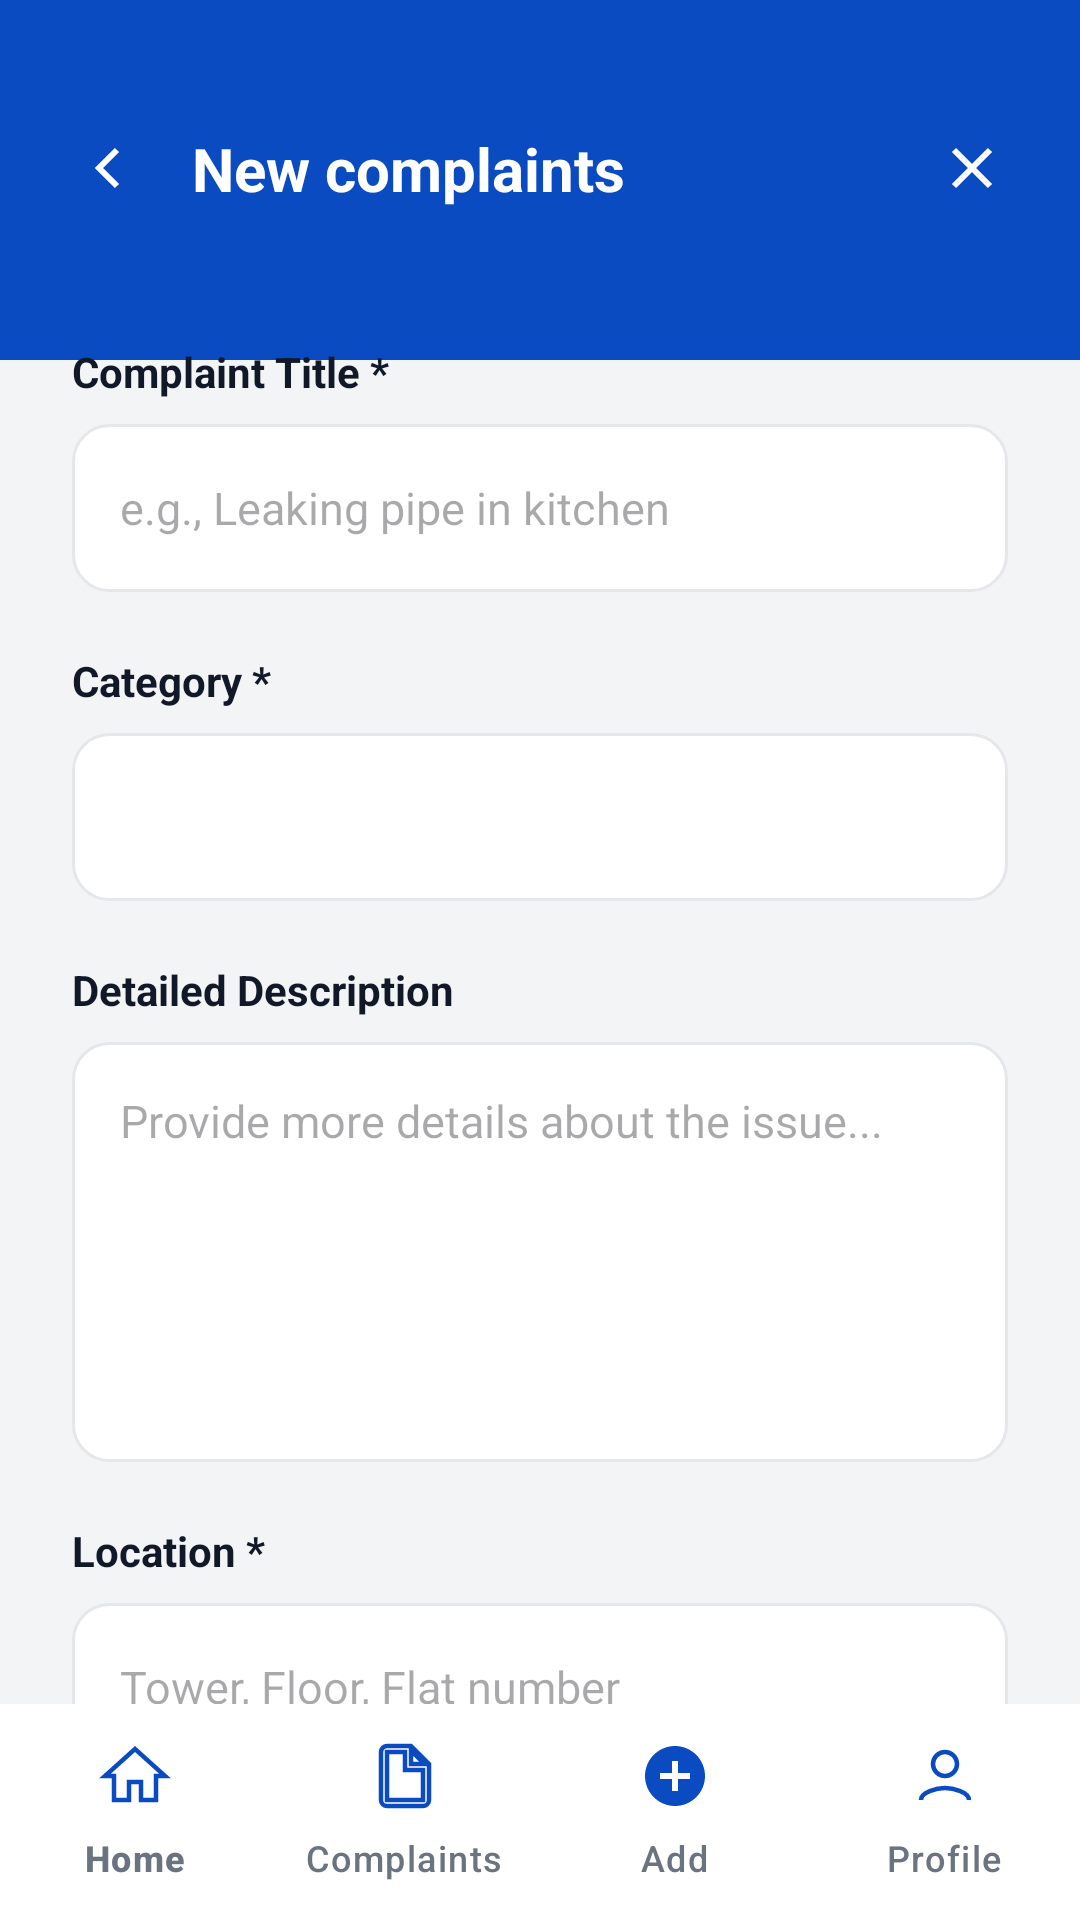

Where icons sit on this 1080x1920 app screen, as bbox(x1, y1, x2, y2):
arrow back: bbox(95, 148, 119, 188)
close: bbox(952, 148, 992, 188)
